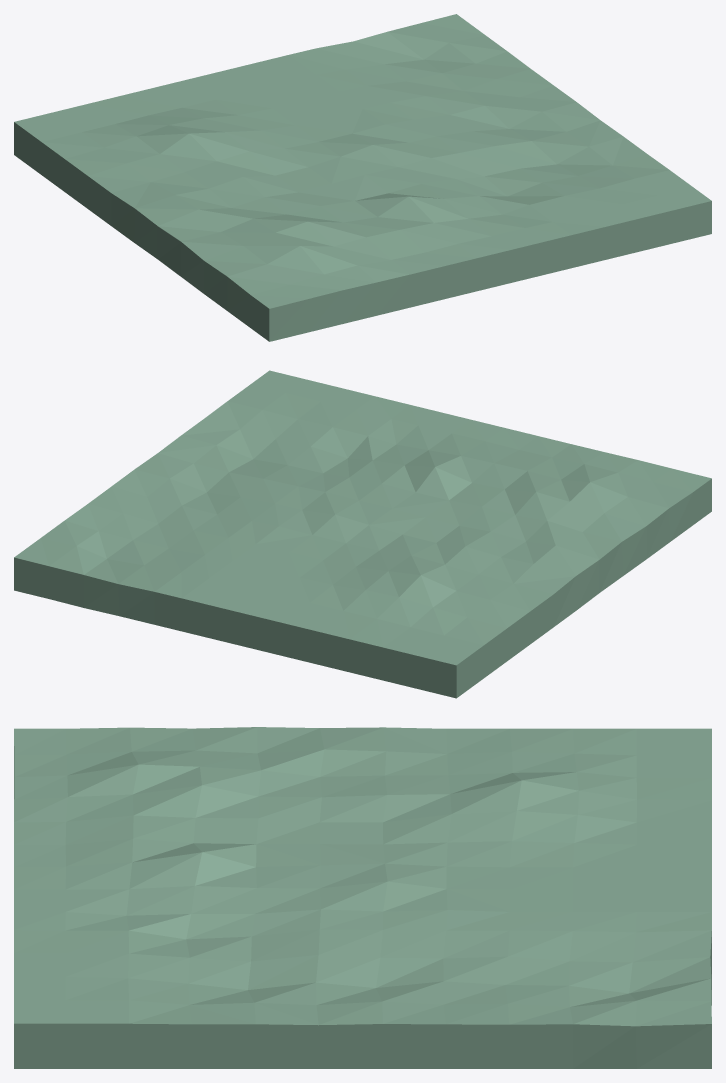
The model's file is grass-platform.glb.
The picture shows the model from 3 angles, top to bottom: view 1: azimuth 30°, elevation 25°; view 2: azimuth 150°, elevation 25°; view 3: azimuth 270°, elevation 25°; orthographic projection. The views are drawn at different scales.
Visible parts, largest first — view 1: Cube; view 2: Cube; view 3: Cube.
Part boxes in pixels (box(x1,y1,x2,y2)): Cube: box(14, 14, 711, 341); Cube: box(14, 370, 711, 698); Cube: box(14, 727, 711, 1068).
Size of the model in its own units: 16.04 by 1.64 by 16.
